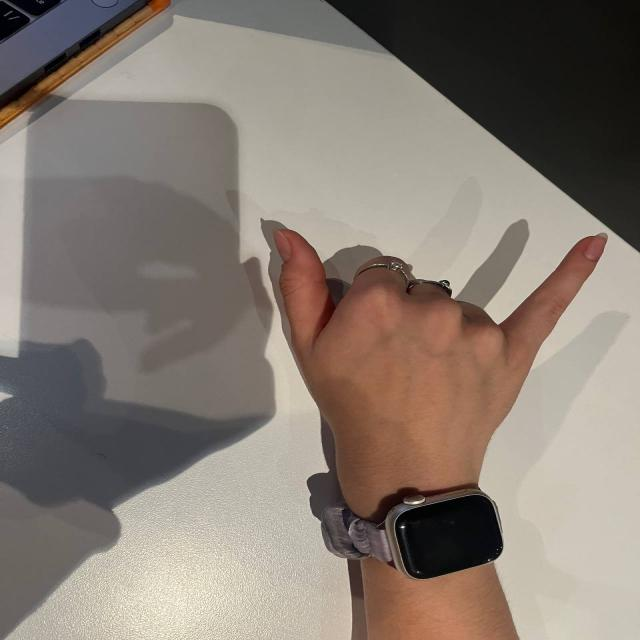u: (191, 148, 611, 460)
